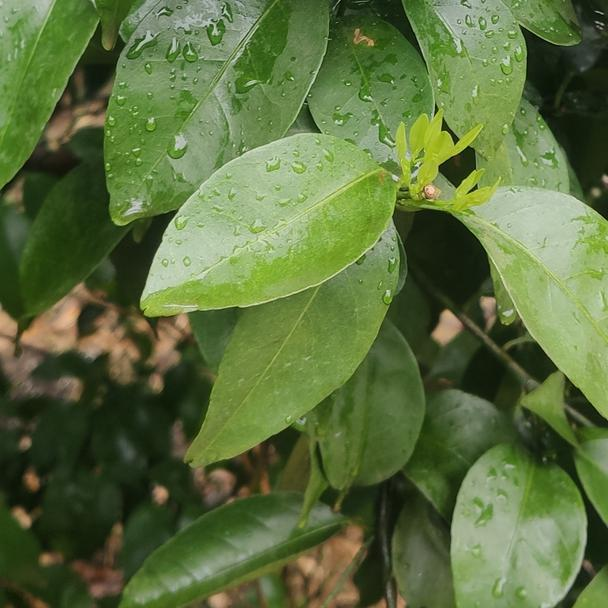shoot: (400, 116, 483, 178), (439, 175, 503, 219)
